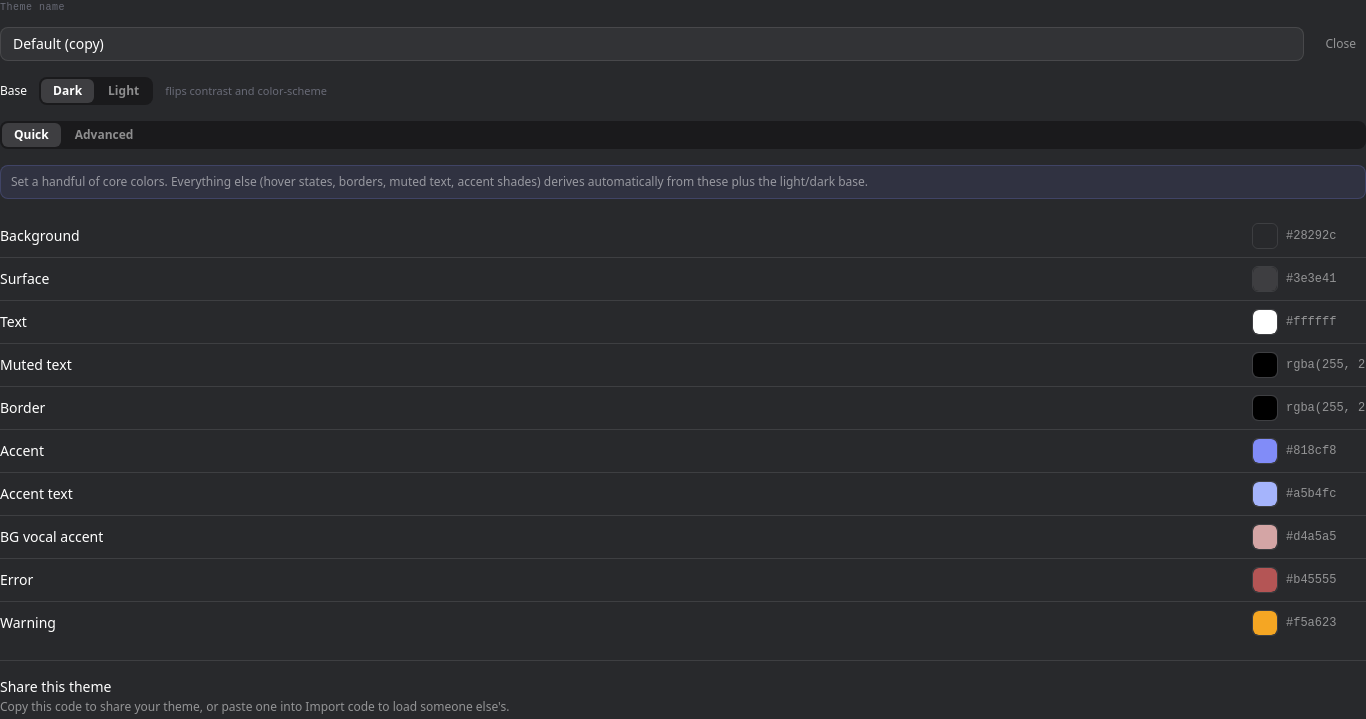
ThemeEditor › lists tokens from multiple groups in the Advanced pane
The image size is (1366, 719).
Step 1. Click the button "Advanced" → click(104, 135), box [63, 123, 145, 147]
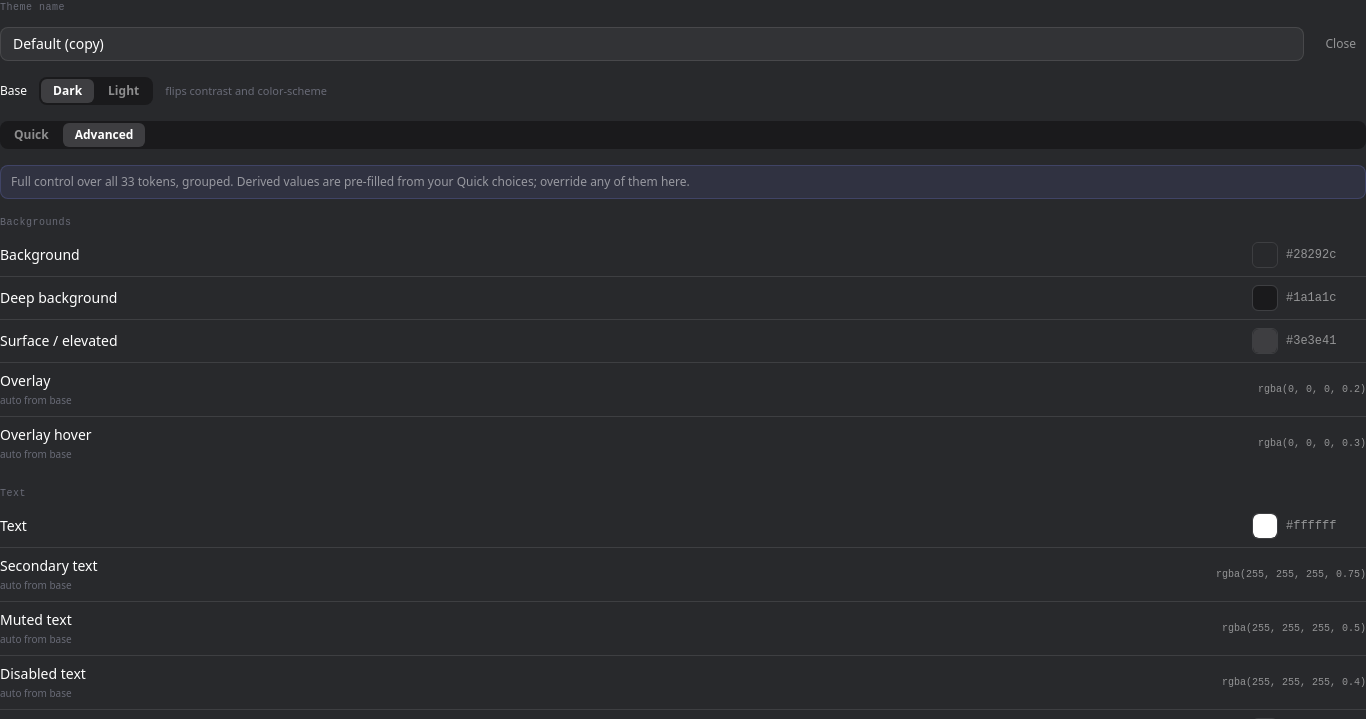
Now the text "Backgrounds" is shown, box [0, 217, 72, 228]
Now the text "Deep background" is shown, box [0, 288, 117, 307]
